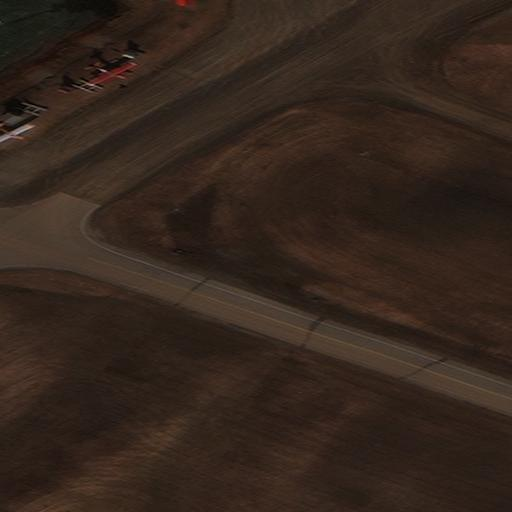Small Civil Transport: (89, 64, 136, 85), (0, 125, 35, 143)
